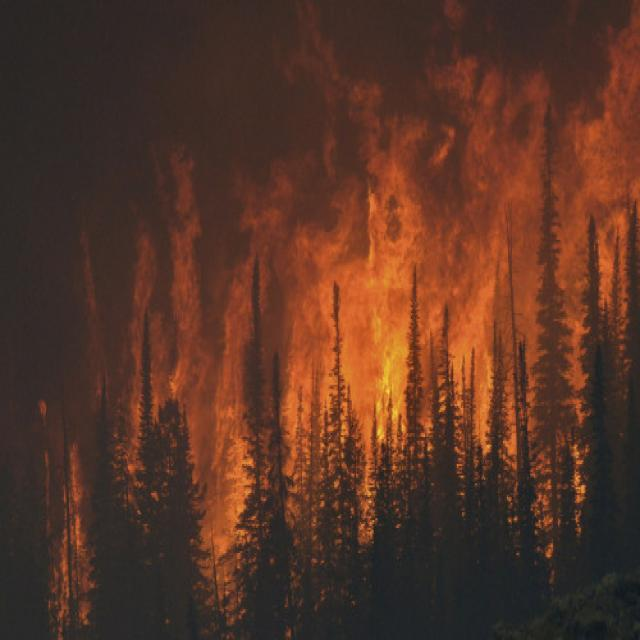Fire: (63, 50, 622, 591)
